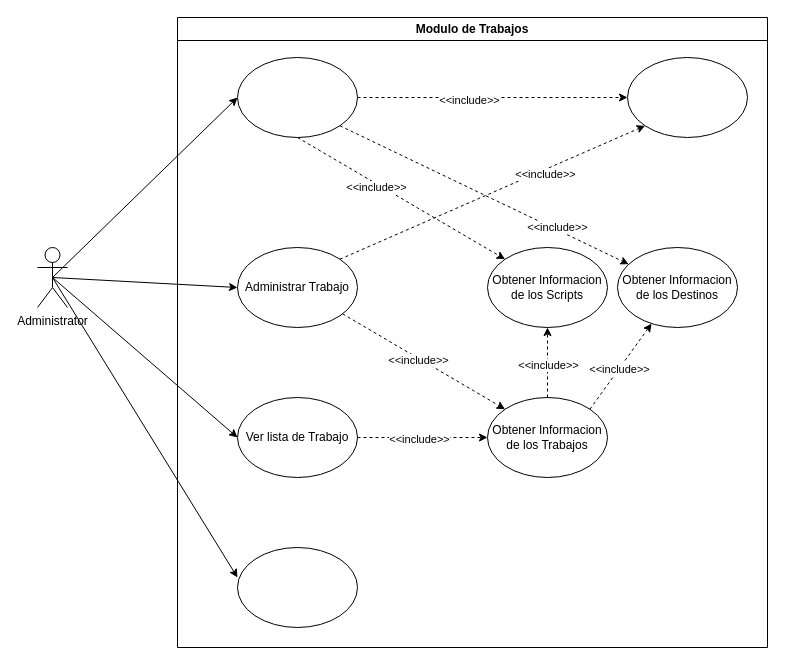
Some shapes in this 785 by 665 pixel diagram are drawn without their labels. Each missing label, with the box of its shape:
Crear Trabajo: (236, 56, 358, 138)
Ejecutar Trabajo manualmente: (236, 546, 358, 628)
Guardar Informacion del Trabajo: (626, 56, 748, 138)
